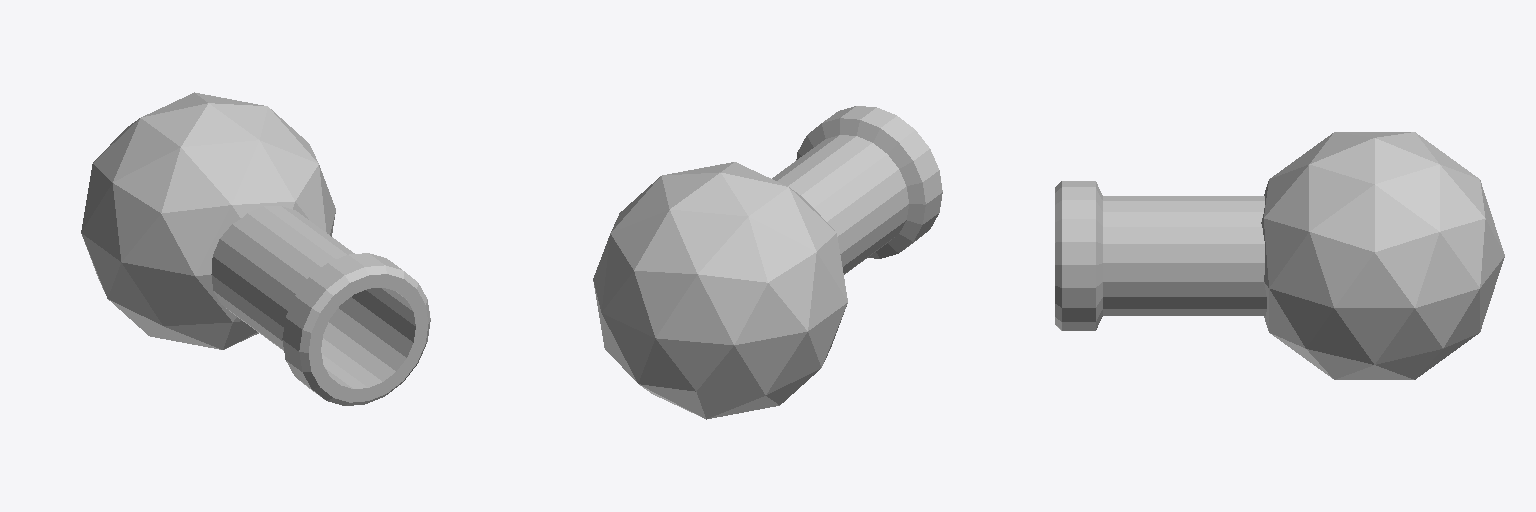
File: canon.obj
3 renders of one model, left to right at view 1: azimuth 30°, elevation 25°; view 2: azimuth 150°, elevation 25°; view 3: azimuth 270°, elevation 25°, orthographic.
Visible parts, largest first — view 1: Circle_Circle.006; view 2: Circle_Circle.006; view 3: Circle_Circle.006.
Part boxes in pixels (x1,y1,x2,y2): Circle_Circle.006: (81, 92, 430, 405); Circle_Circle.006: (593, 106, 942, 419); Circle_Circle.006: (1055, 132, 1504, 379).
Size of the model in its own units: 2.2 by 2.32 by 4.